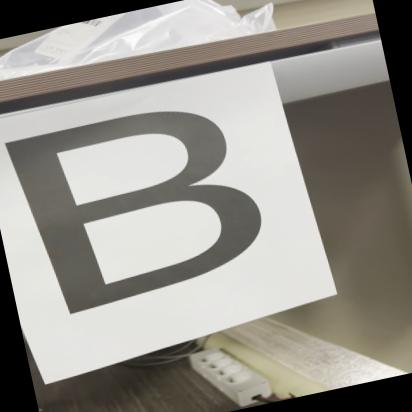seat: (0, 80, 278, 330)
